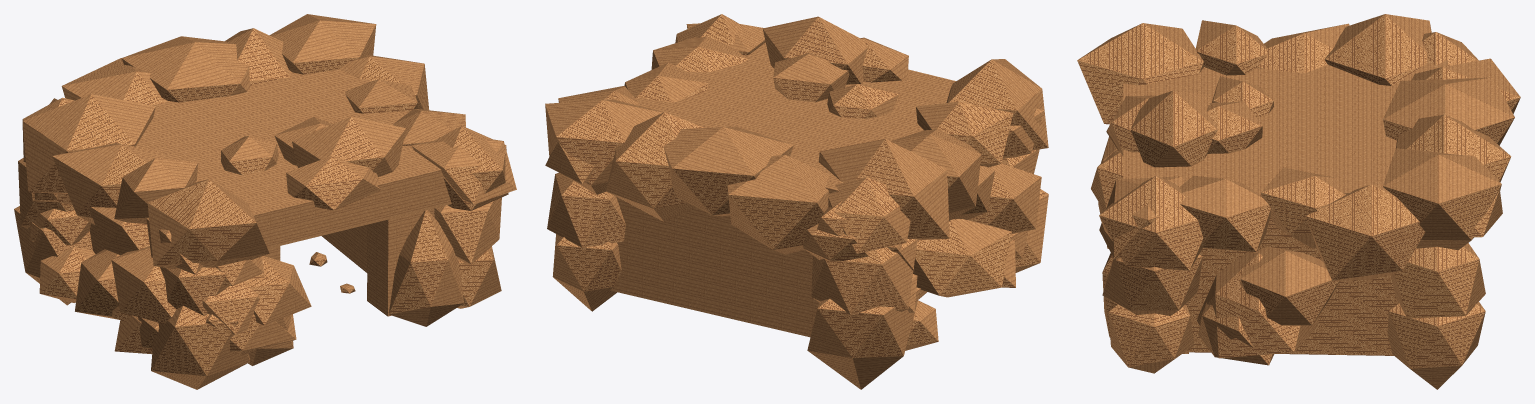
The model's file is cave_sand.glb.
The picture shows the model from 3 angles, left to right: view 1: azimuth 30°, elevation 25°; view 2: azimuth 150°, elevation 25°; view 3: azimuth 270°, elevation 25°; orthographic projection. The views are drawn at different scales.
Visible parts, largest first — view 1: Body.001; view 2: Body.001; view 3: Body.001.
Boxes of the visible parts, x1,y1,x2,y2 form: Body.001: (14, 14, 516, 389); Body.001: (545, 14, 1048, 389); Body.001: (1077, 14, 1520, 389).
Bounding box in the file's own units: 13.38 × 7.58 × 11.76.
Materials: 2 (1 with a texture image).
